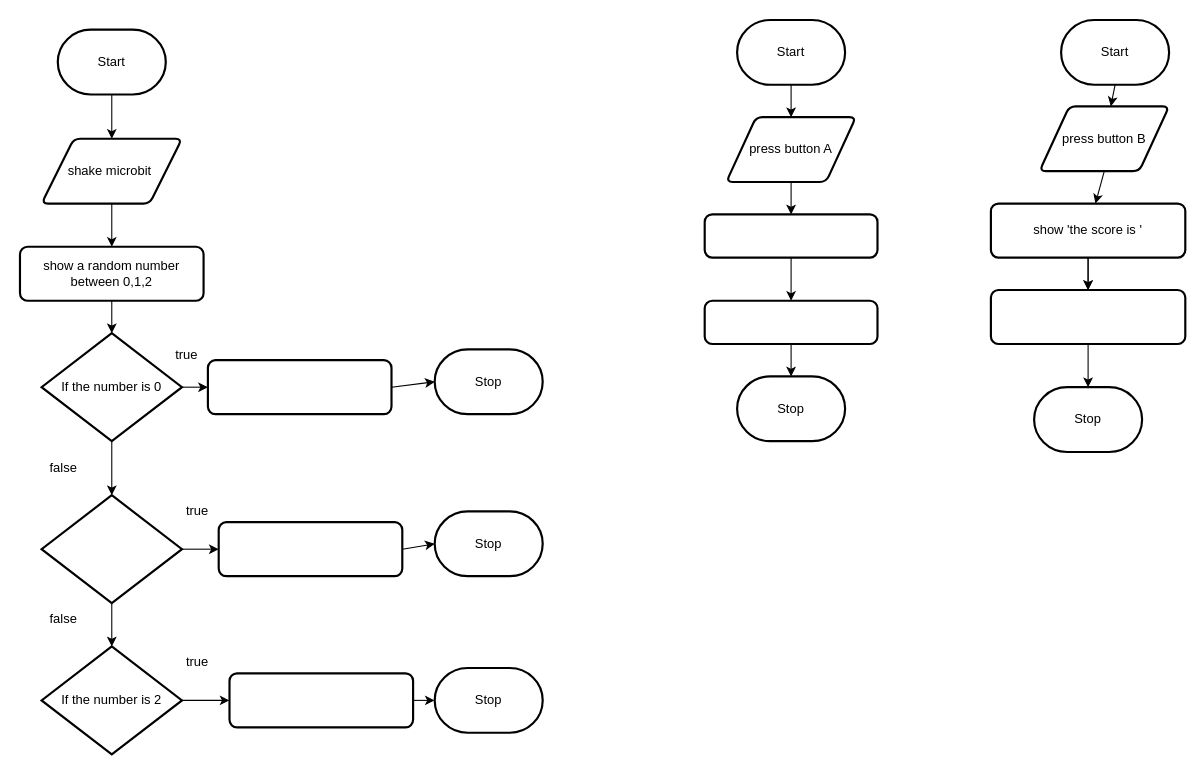
The diagram is 1204 pixels wide and 773 high, and some of its shapes have lost their labels. The shapes that lost their labels are listed below. From the top down, each one's centre as x and y in pixels, then its label:
At point 790,235: "show image of check mark".
At point 790,322: "Add 1 t the score".
At point 1087,316: "show what the score is".
At point 299,387: "show image of rock".
At point 111,549: "If the number is 1".
At point 310,549: "show image of paper".
At point 321,700: "show image of scissors".
